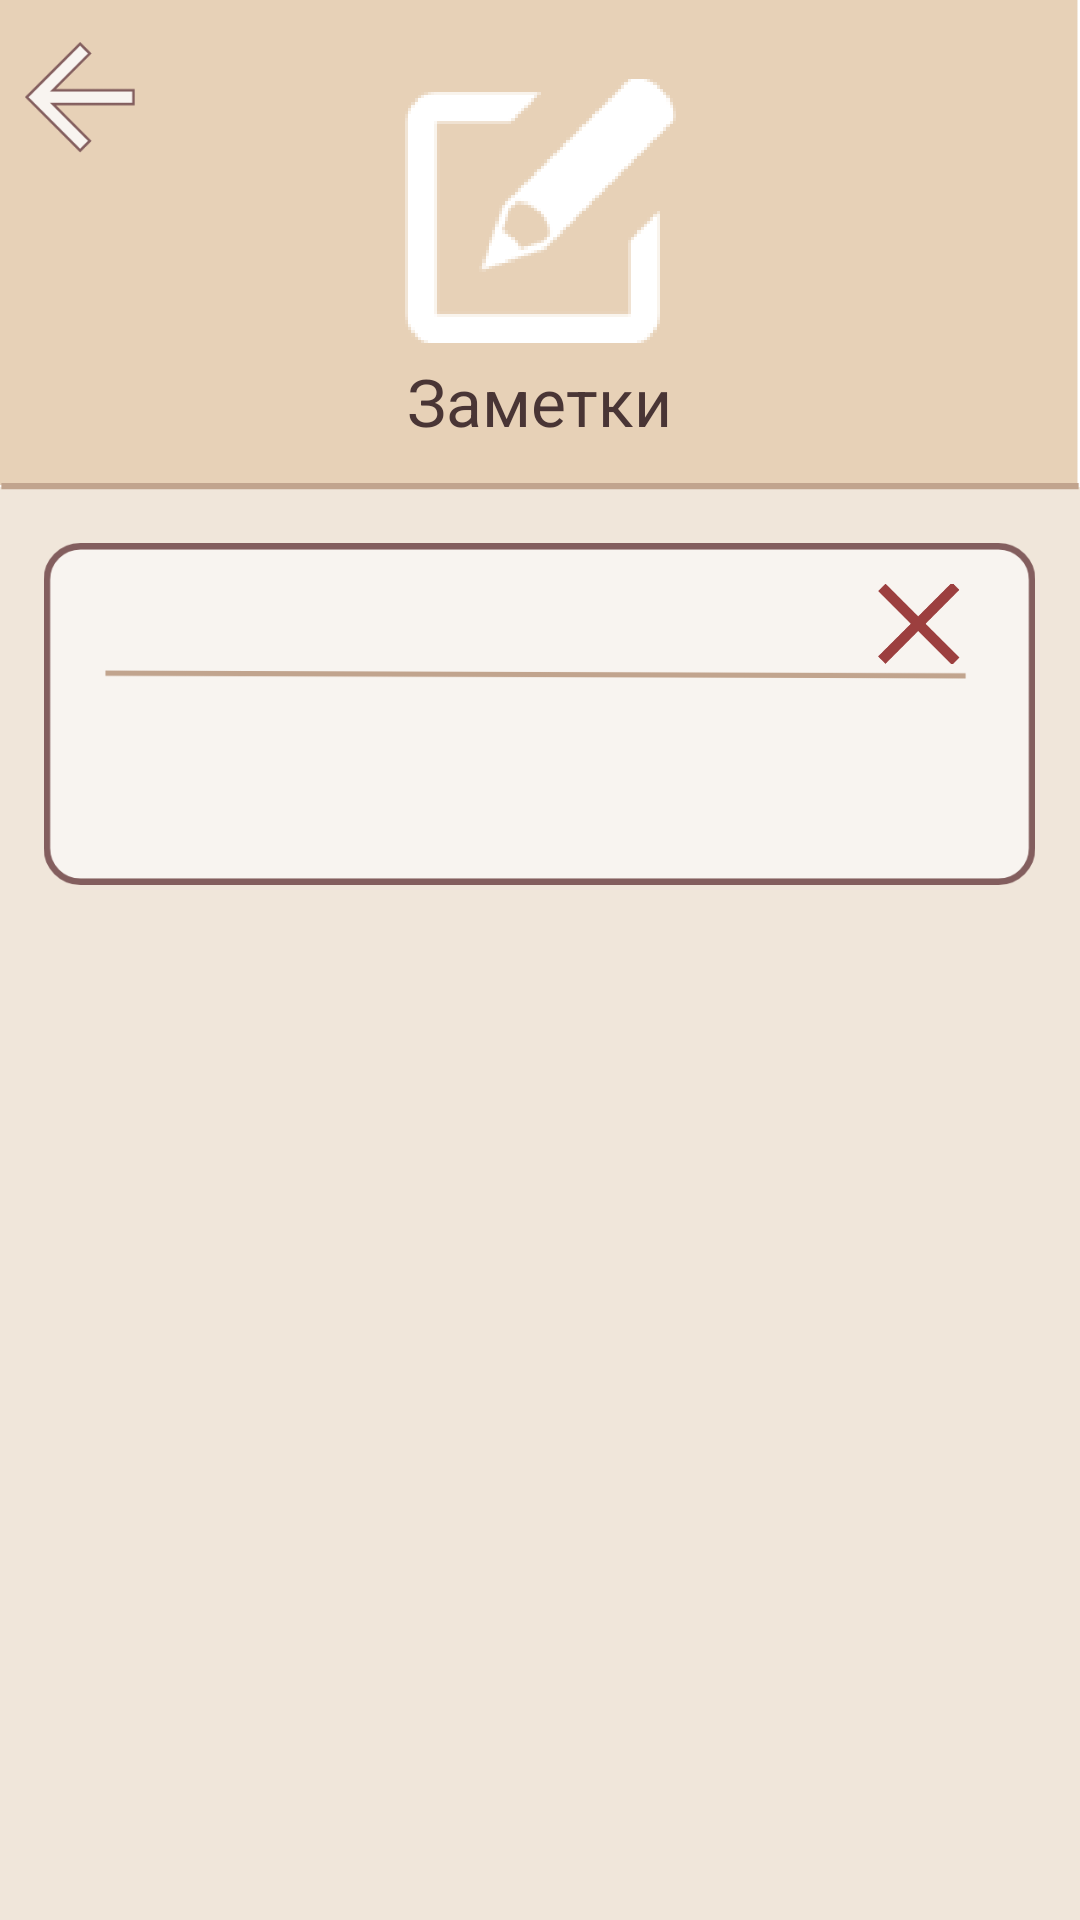

Screen size 1080 x 1920. Icon name, then its center in pixels as (x=x, y=y):
back: (x=80, y=97)
drafts: (x=540, y=211)
